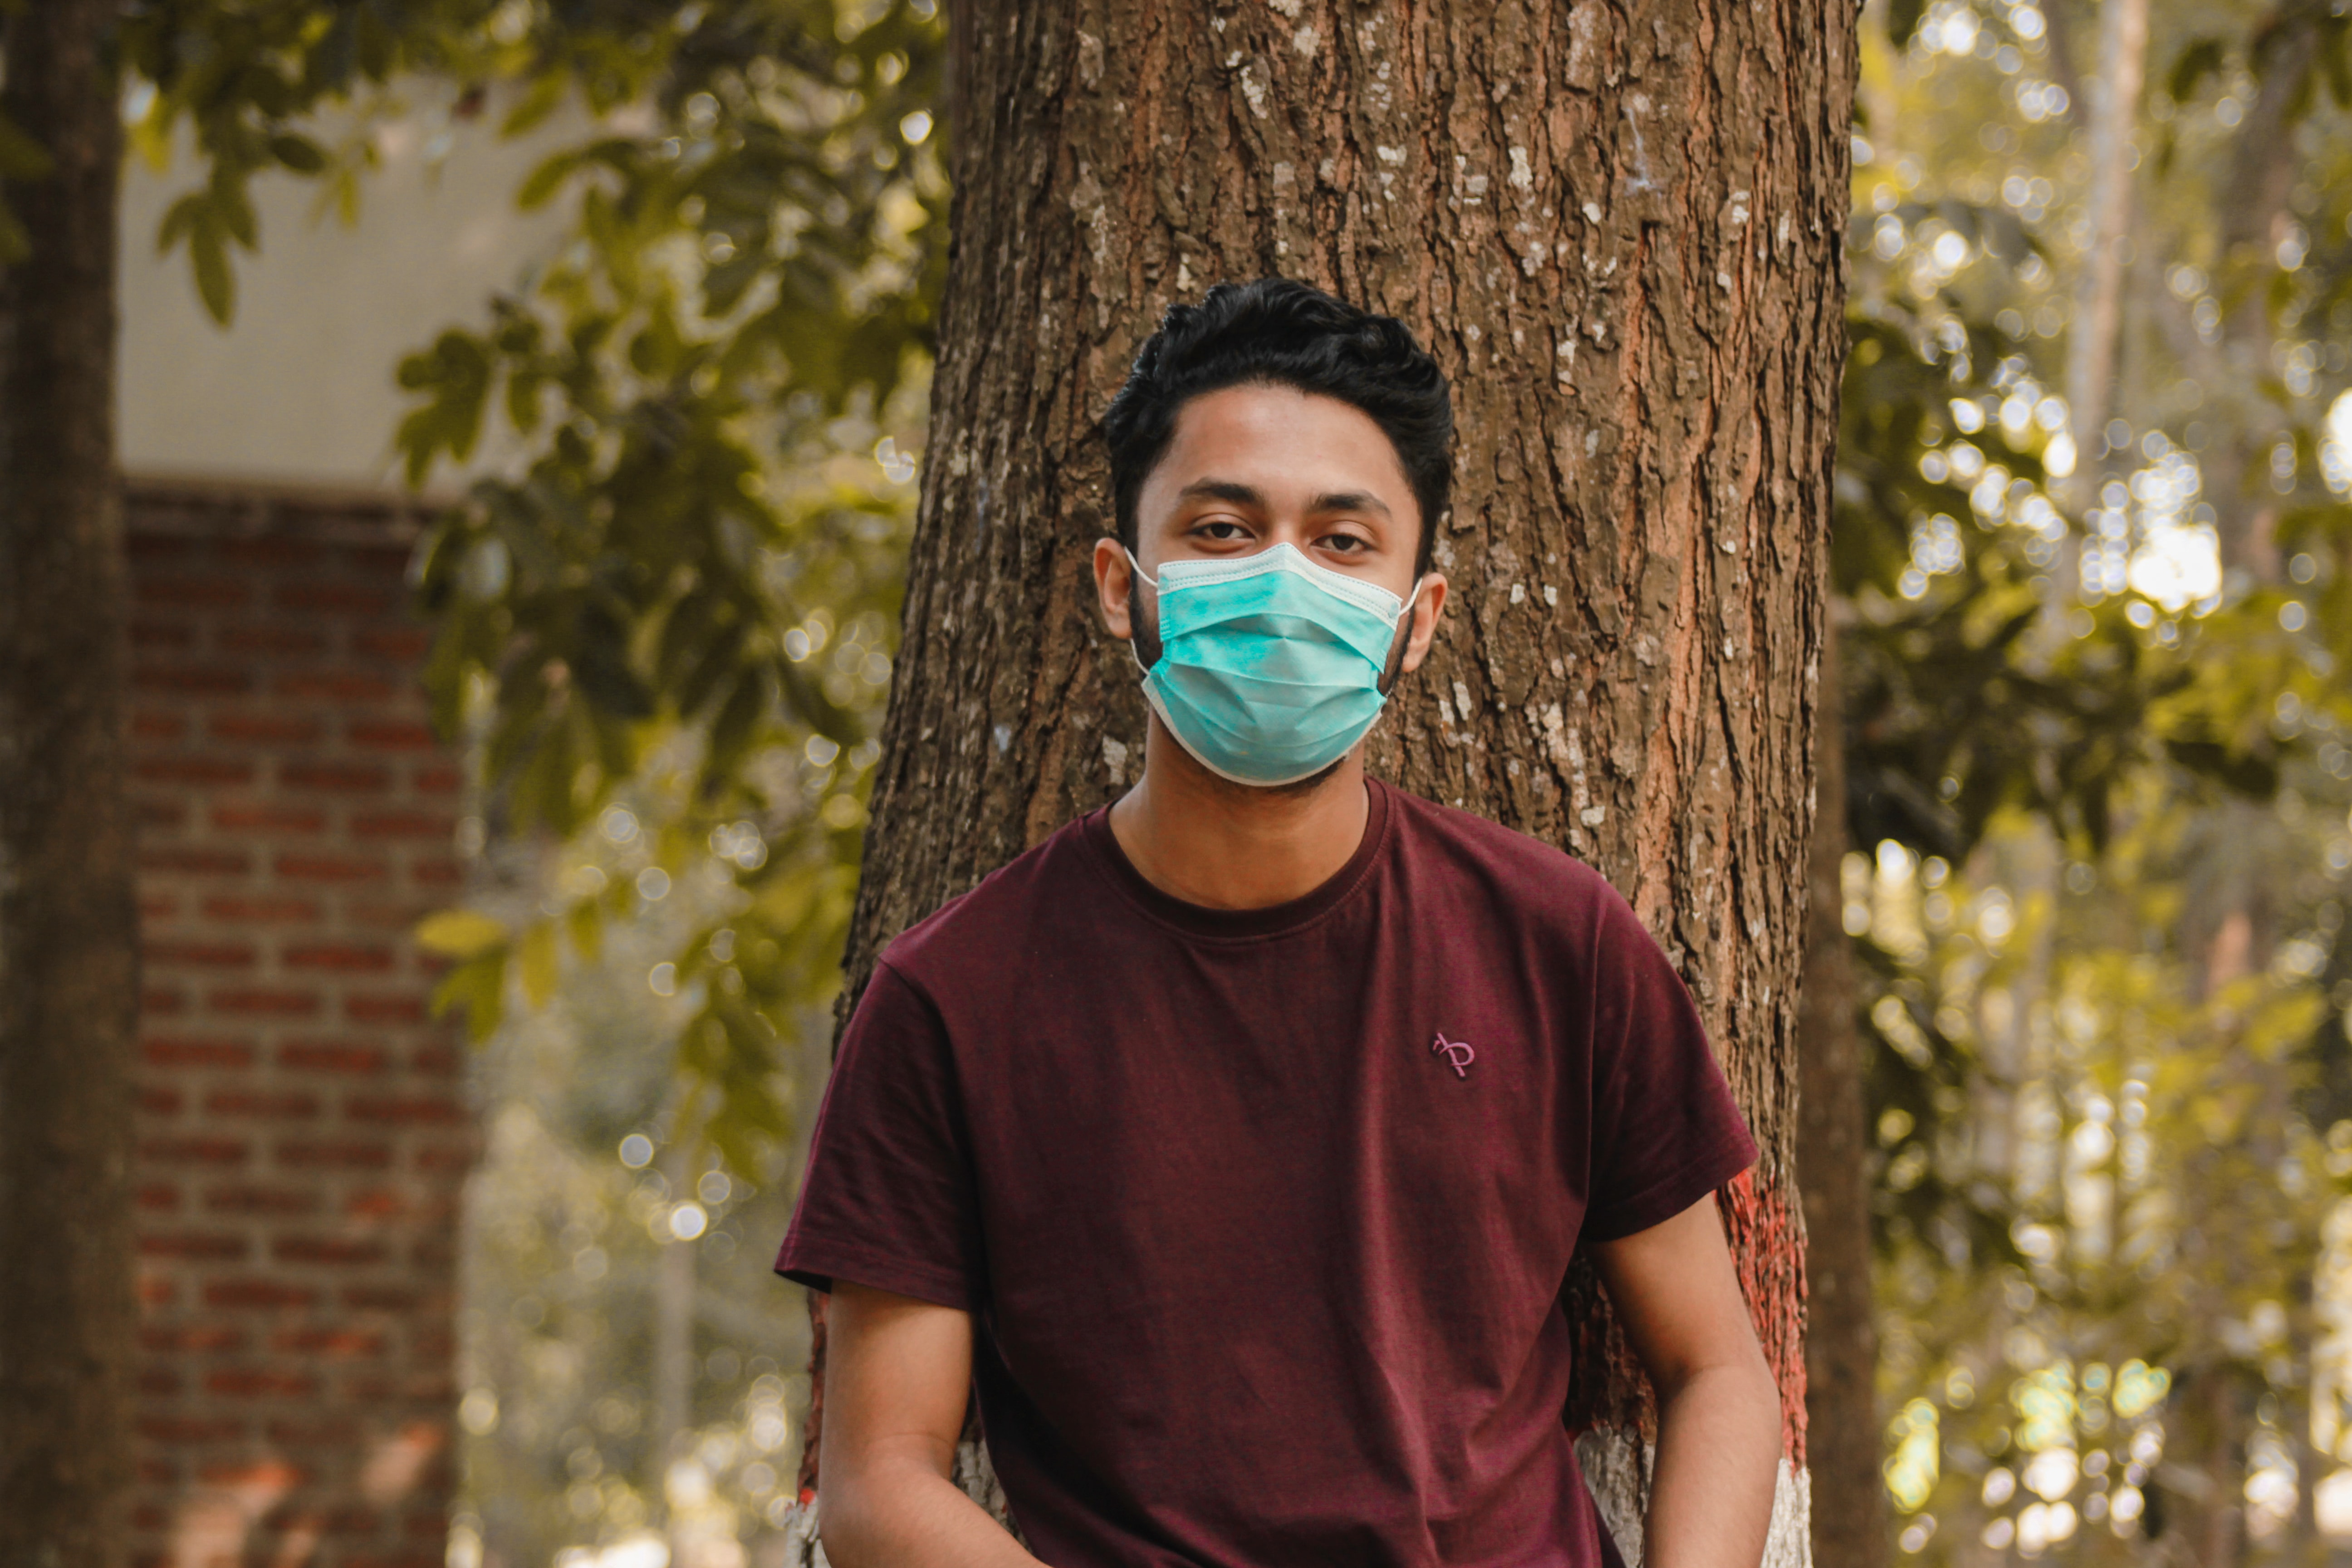mask: (1104, 540, 1448, 804)
person: (782, 255, 1792, 1568)
